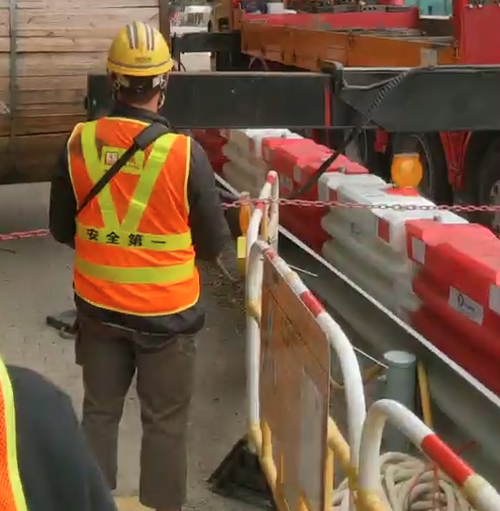Hard Hat: (106, 23, 174, 114)
Person: (53, 22, 224, 509)
Vest: (68, 79, 202, 318)
